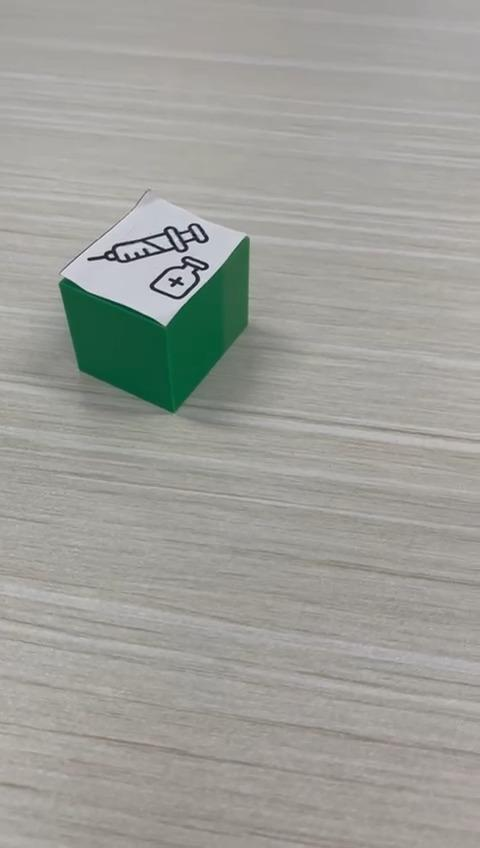antiseptic cream: (57, 187, 251, 414)
